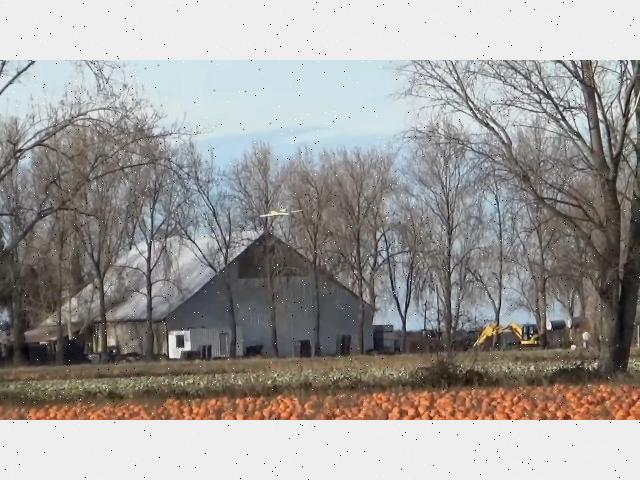Anti-Drone: (259, 208, 303, 218)
